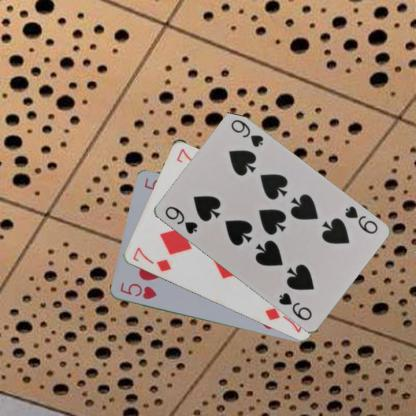5h: (117, 280, 158, 301)
7d: (129, 244, 173, 274)
9s: (341, 202, 379, 236), (162, 203, 199, 236)
